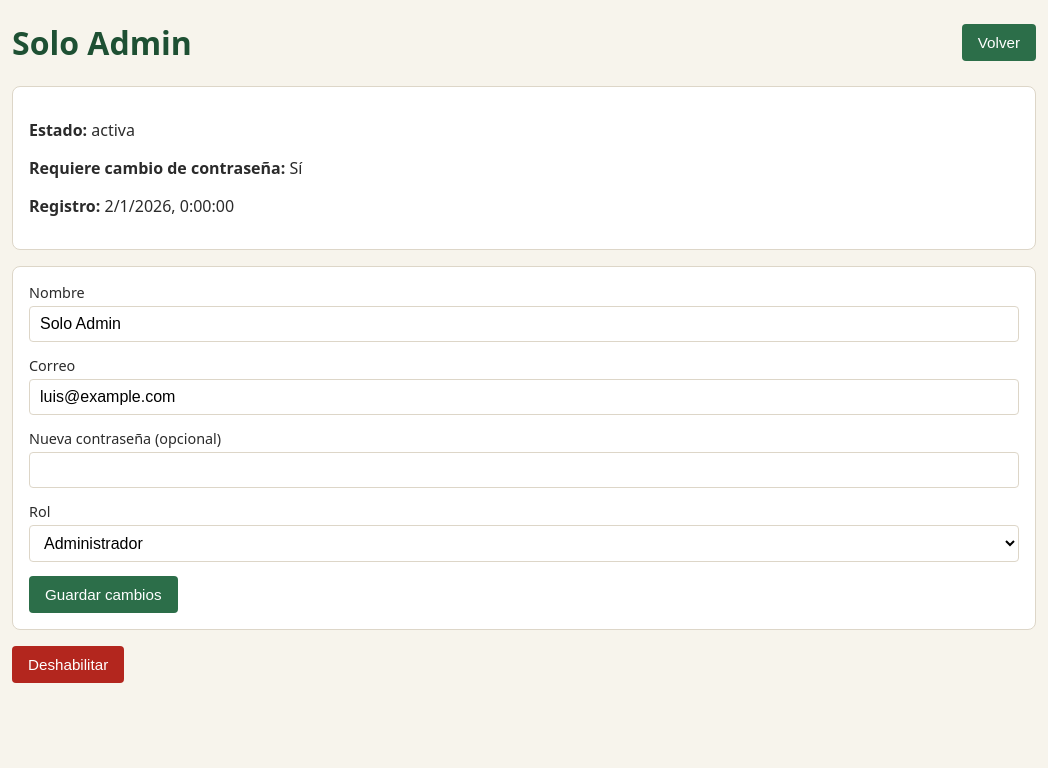
Test: Detalle de usuario (US3) › muestra el error de conflicto al perder el último administrador
The width and height of the screenshot is (1048, 768).
Select "Usuario" in the dropdown labelled "Rol" at (524, 543), box [29, 525, 1019, 562]
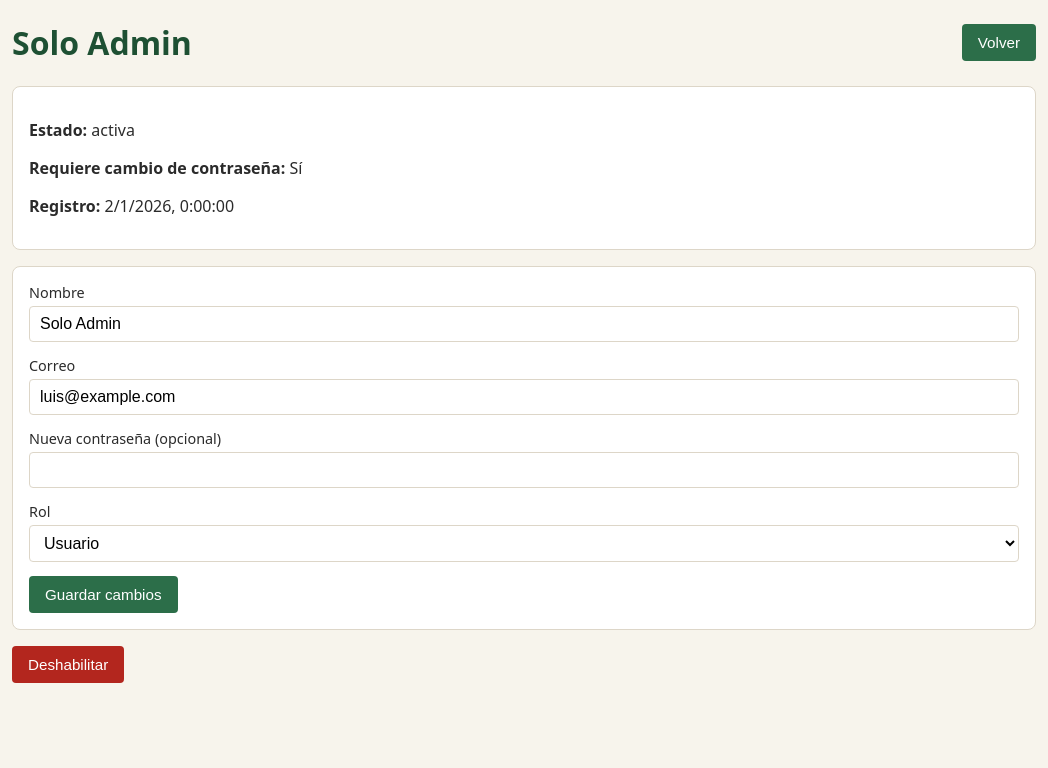
Click the button "Guardar cambios" at (103, 594), box [29, 576, 178, 613]
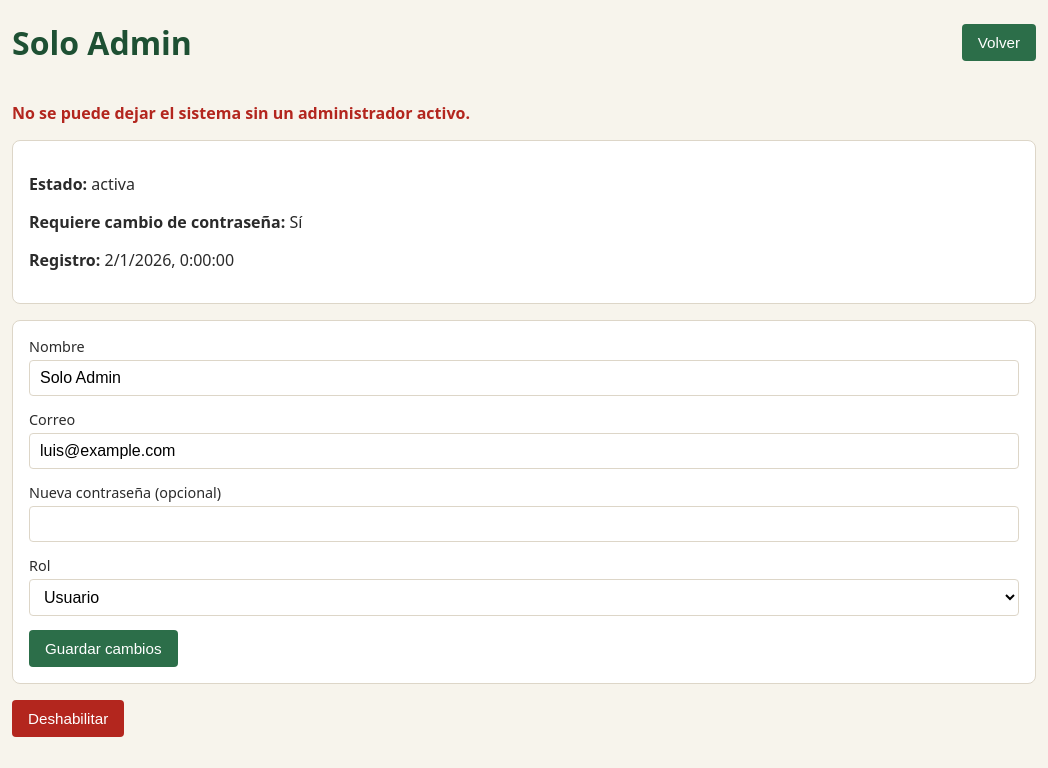
Expected: the text "No se puede dejar el sistema sin un administrador activo." is shown, [12, 102, 470, 124]
